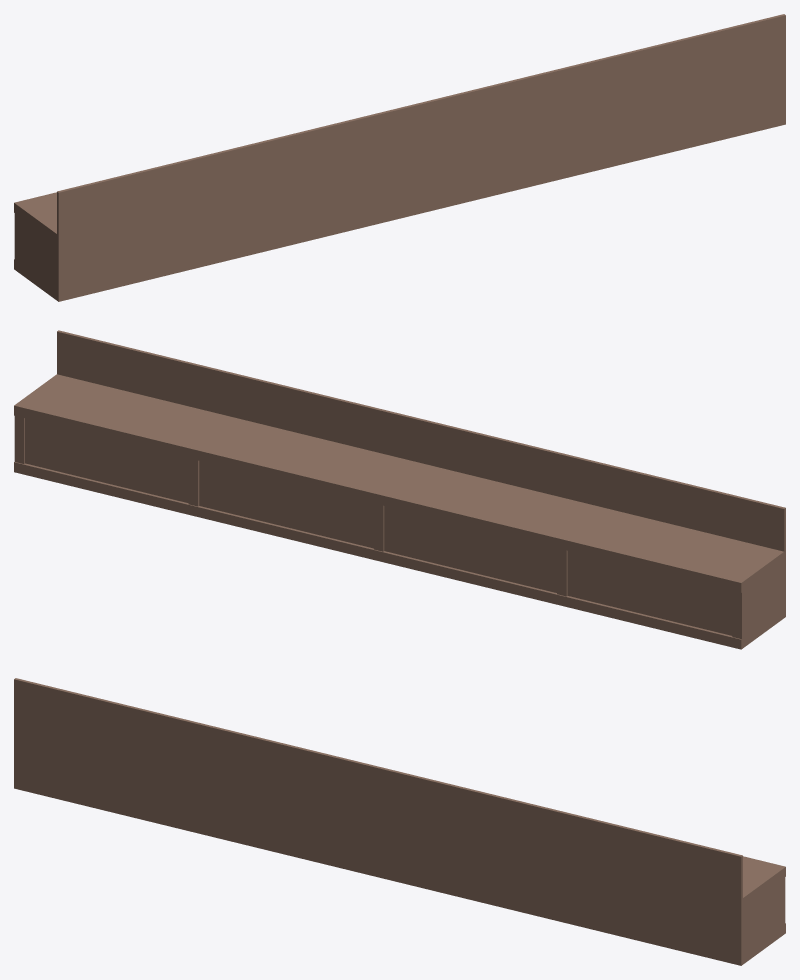
File: bangku2.fbx
The picture shows the model from 3 angles, top to bottom: view 1: azimuth 30°, elevation 25°; view 2: azimuth 150°, elevation 25°; view 3: azimuth 330°, elevation 25°; orthographic projection.
Visible parts, largest first — view 1: Component_20_1; view 2: Component_20_1; view 3: Component_20_1.
Boxes of the visible parts, x1,y1,x2,y2 form: Component_20_1: (14, 14, 785, 301); Component_20_1: (14, 330, 785, 649); Component_20_1: (14, 678, 785, 965).
Size of the model in its own units: 371 by 53.3 by 39.51.
